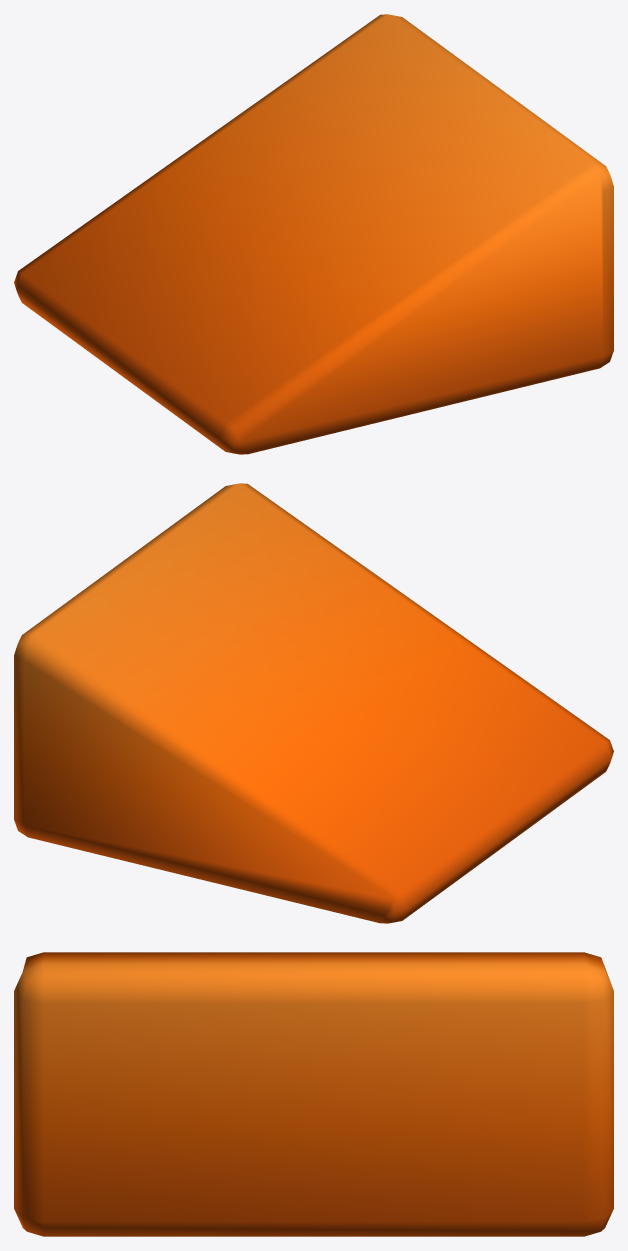
Rendered from 3D_Tile_Ground_Slope_03B.fbx.
3 views of the same model, one above another, from view 1: azimuth 30°, elevation 25°; view 2: azimuth 150°, elevation 25°; view 3: azimuth 270°, elevation 25° (orthographic). The views are drawn at different scales.
Parts seen in each view (by area): view 1: 3D_Tile_Ground_Slope_03B; view 2: 3D_Tile_Ground_Slope_03B; view 3: 3D_Tile_Ground_Slope_03B.
Boxes of the visible parts, x1=… form: 3D_Tile_Ground_Slope_03B: x1=14, y1=14, x2=613, y2=454; 3D_Tile_Ground_Slope_03B: x1=14, y1=483, x2=613, y2=923; 3D_Tile_Ground_Slope_03B: x1=14, y1=952, x2=613, y2=1236.
Bounding box in the file's own units: 200 × 100 × 200.
